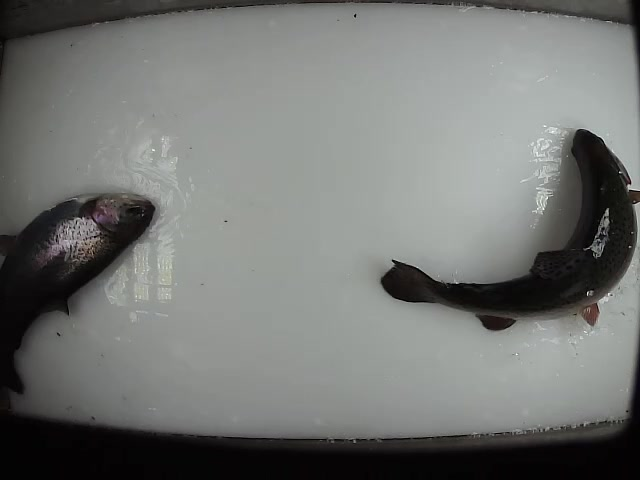fish: (374, 123, 640, 335), (1, 190, 156, 421)
